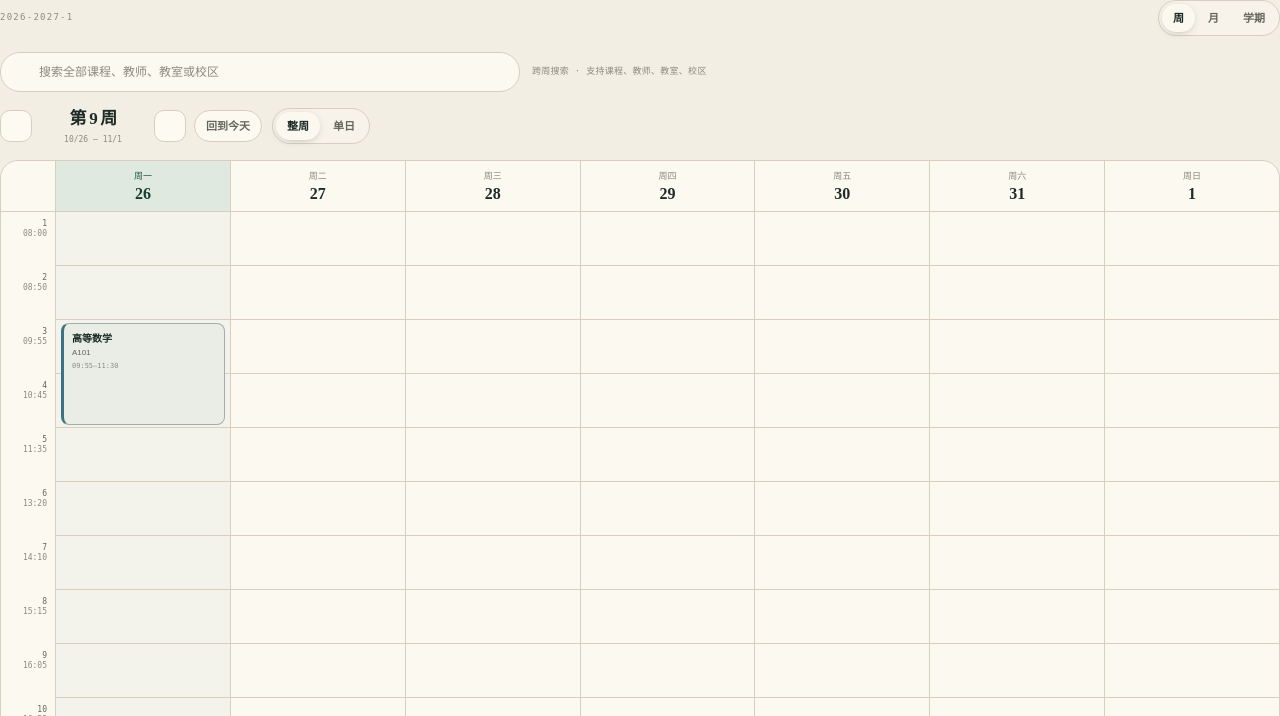
Schedule page › switches week layout and navigates weeks
Click the button "单日" at (344, 126), box [322,112,366,140]
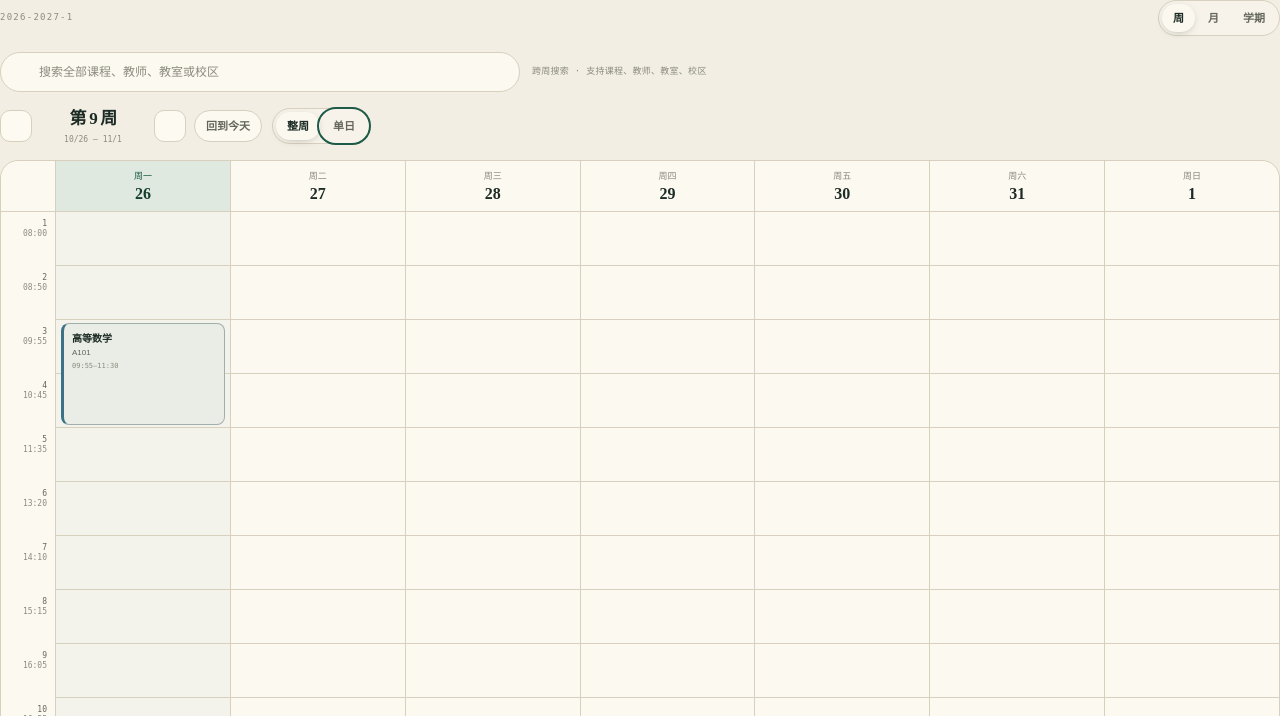
Click the button named "下一周" at (170, 126), box [154,110,186,142]
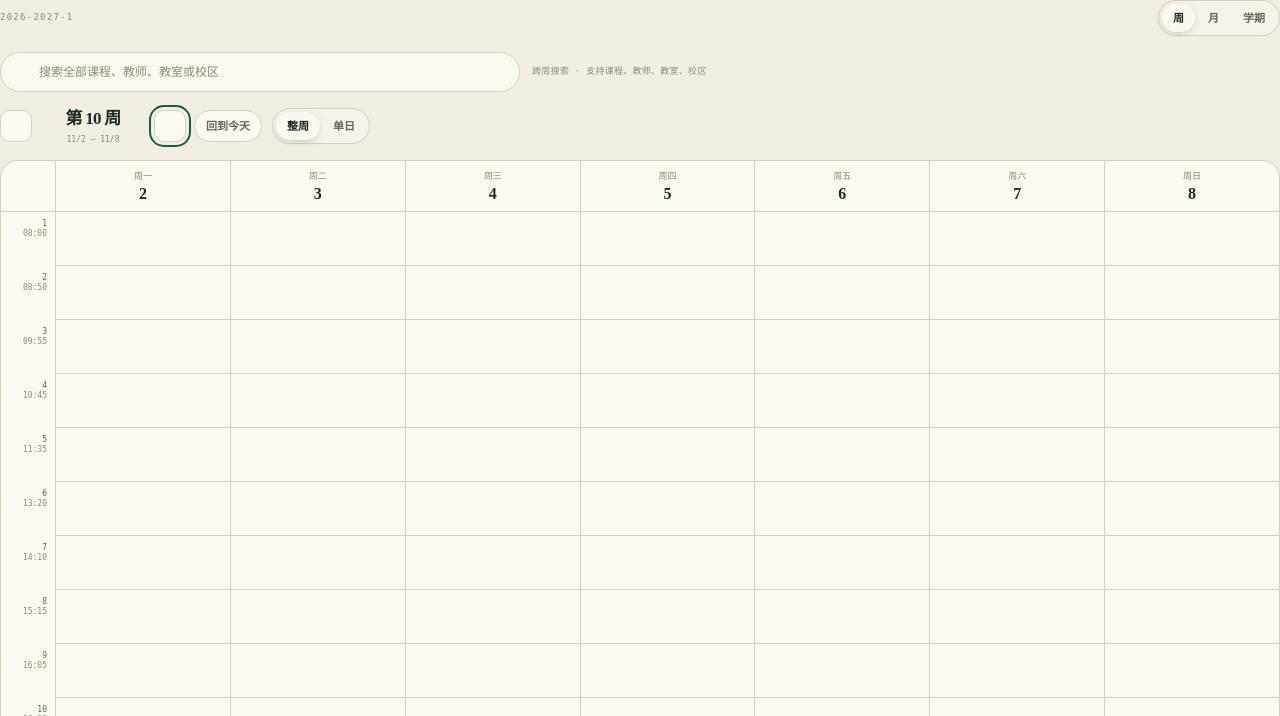
Expected: the text "第 10 周" is shown, [66,109,120,128]
Expected: the button "高等数学" is gone
Click the button "回到今天" at (228, 126), box [194,110,262,142]
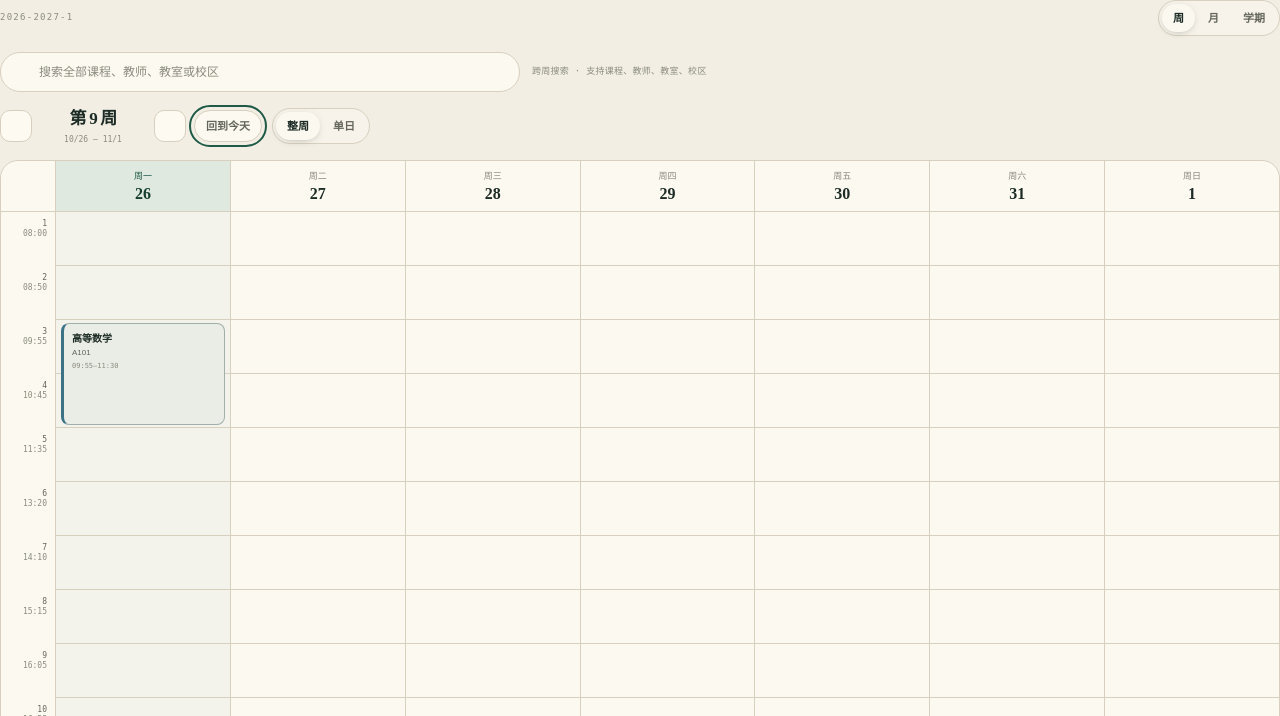
Expected: the text "第 9 周" is shown, [69,109,117,128]
